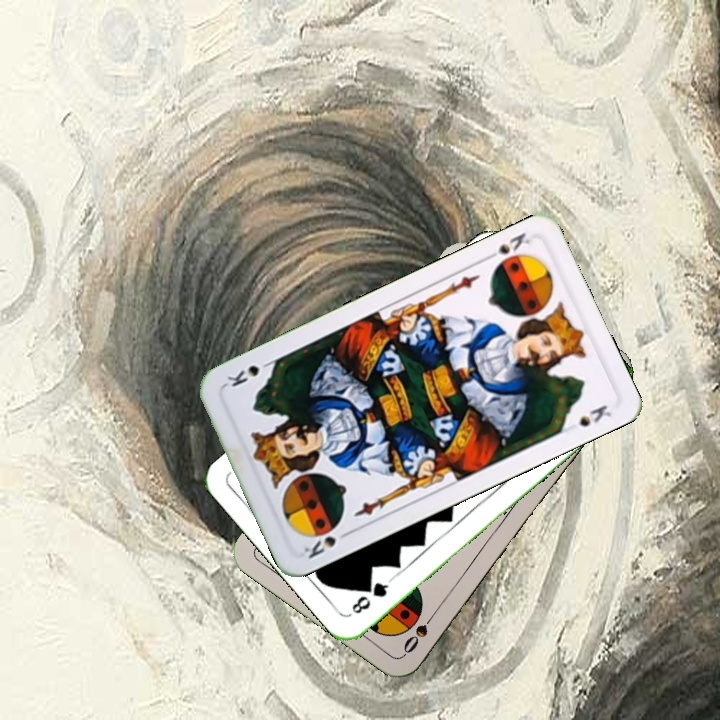G8: (347, 574, 395, 617)
SK: (299, 526, 355, 562), (480, 228, 532, 264)
SO: (398, 605, 440, 657)
